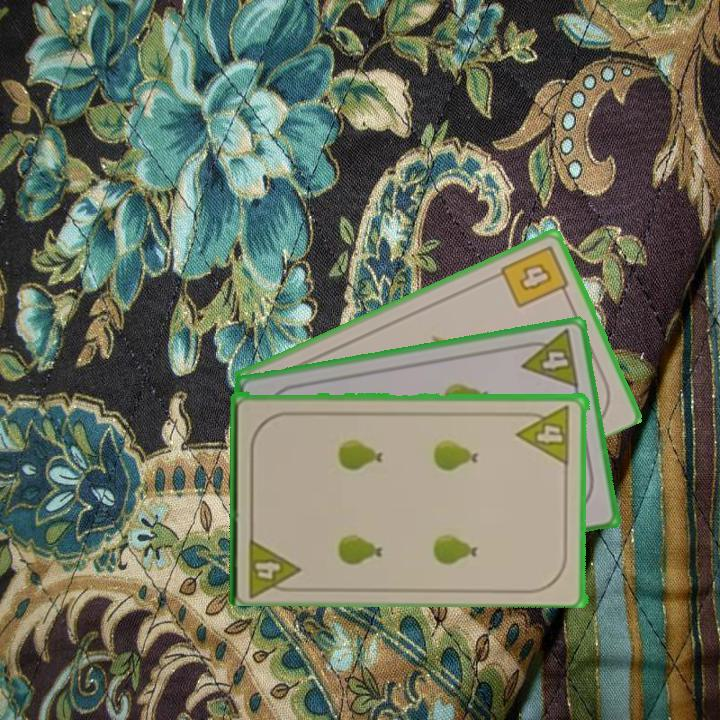4b: (497, 241, 573, 311)
4p: (515, 326, 582, 391), (245, 531, 304, 597), (515, 401, 574, 466)
